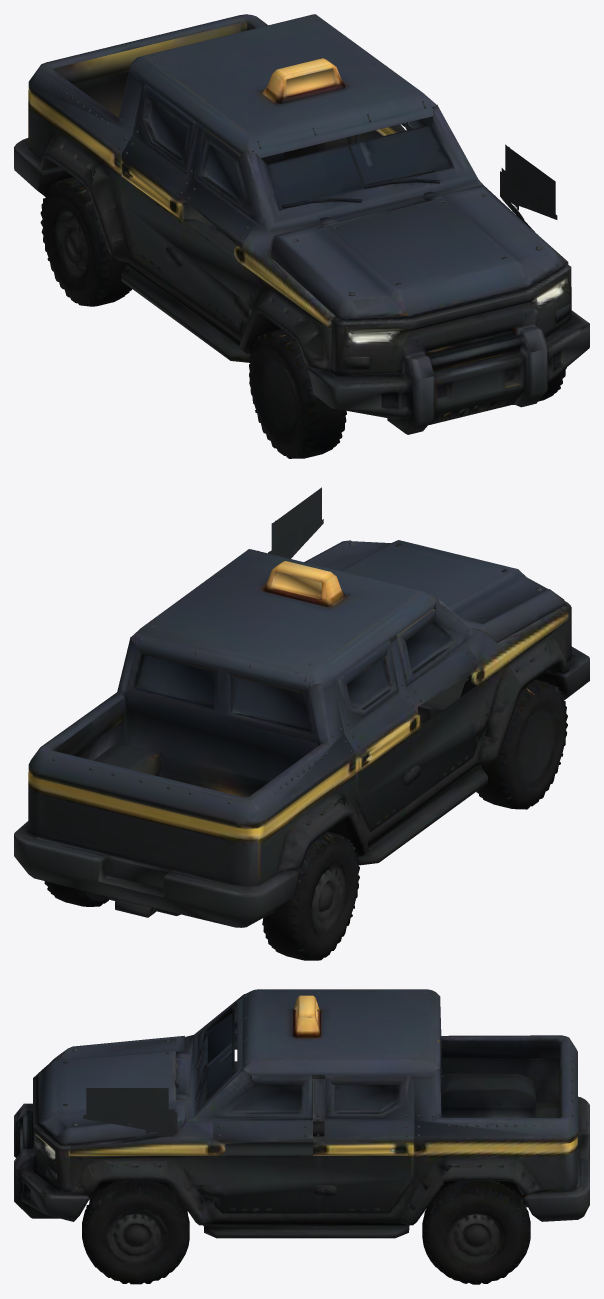
The model's file is taxi.glb.
3 views of the same model, one above another, from view 1: azimuth 30°, elevation 25°; view 2: azimuth 150°, elevation 25°; view 3: azimuth 270°, elevation 25° (orthographic). The views are drawn at different scales.
Parts seen in each view (by area): view 1: material; view 2: material; view 3: material.
Part boxes in pixels (x1=…): material: x1=14, y1=14, x2=589, y2=458; material: x1=14, y1=487, x2=589, y2=960; material: x1=14, y1=989, x2=589, y2=1284.
Size of the model in its own units: 0.8191 by 0.841 by 1.9.
1 material, 1 textured.
